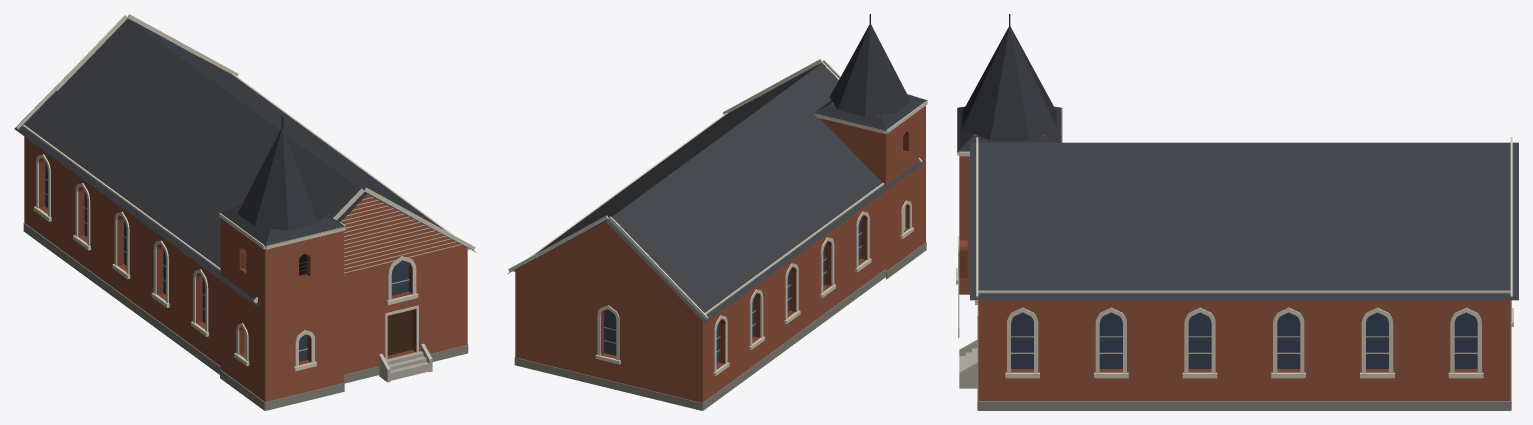
File: ch-miles-chapel-1913.glb
3 views of the same model, side by side, from view 1: azimuth 30°, elevation 25°; view 2: azimuth 150°, elevation 25°; view 3: azimuth 270°, elevation 25° (orthographic). The views are drawn at different scales.
Parts seen in each view (by area): view 1: ch_brick, ch_roof, ch_trim, ch_roof2, ch_base, ch_brick2, ch_stain, ch_conc, ch_door; view 2: ch_brick, ch_roof, ch_trim, ch_roof2, ch_base, ch_brick2, ch_stain; view 3: ch_roof, ch_brick, ch_trim, ch_roof2, ch_stain, ch_base, ch_brick2, ch_conc, ch_trc.
Boxes of the visible parts, x1=… form: ch_brick: x1=24, y1=136, x2=467, y2=401; ch_roof: x1=14, y1=18, x2=476, y2=306; ch_trim: x1=16, y1=14, x2=475, y2=371; ch_roof2: x1=219, y1=128, x2=345, y2=246; ch_base: x1=23, y1=222, x2=468, y2=410; ch_brick2: x1=39, y1=158, x2=416, y2=365; ch_stain: x1=45, y1=163, x2=408, y2=361; ch_conc: x1=379, y1=343, x2=432, y2=382; ch_door: x1=387, y1=310, x2=412, y2=355; ch_brick: x1=515, y1=106, x2=925, y2=402; ch_roof: x1=507, y1=62, x2=924, y2=322; ch_trim: x1=508, y1=59, x2=927, y2=376; ch_roof2: x1=814, y1=24, x2=927, y2=131; ch_base: x1=514, y1=242, x2=926, y2=410; ch_brick2: x1=601, y1=131, x2=909, y2=369; ch_stain: x1=604, y1=219, x2=861, y2=363; ch_roof: x1=970, y1=142, x2=1518, y2=300; ch_brick: x1=959, y1=133, x2=1510, y2=400; ch_trim: x1=956, y1=107, x2=1513, y2=378; ch_roof2: x1=957, y1=26, x2=1062, y2=152; ch_stain: x1=1011, y1=312, x2=1477, y2=368; ch_base: x1=958, y1=285, x2=1511, y2=410; ch_brick2: x1=959, y1=240, x2=1477, y2=372; ch_conc: x1=959, y1=340, x2=978, y2=388; ch_trc: x1=1011, y1=336, x2=1477, y2=353.
Size of the model in its own units: 13.77 by 16 by 26.86.
